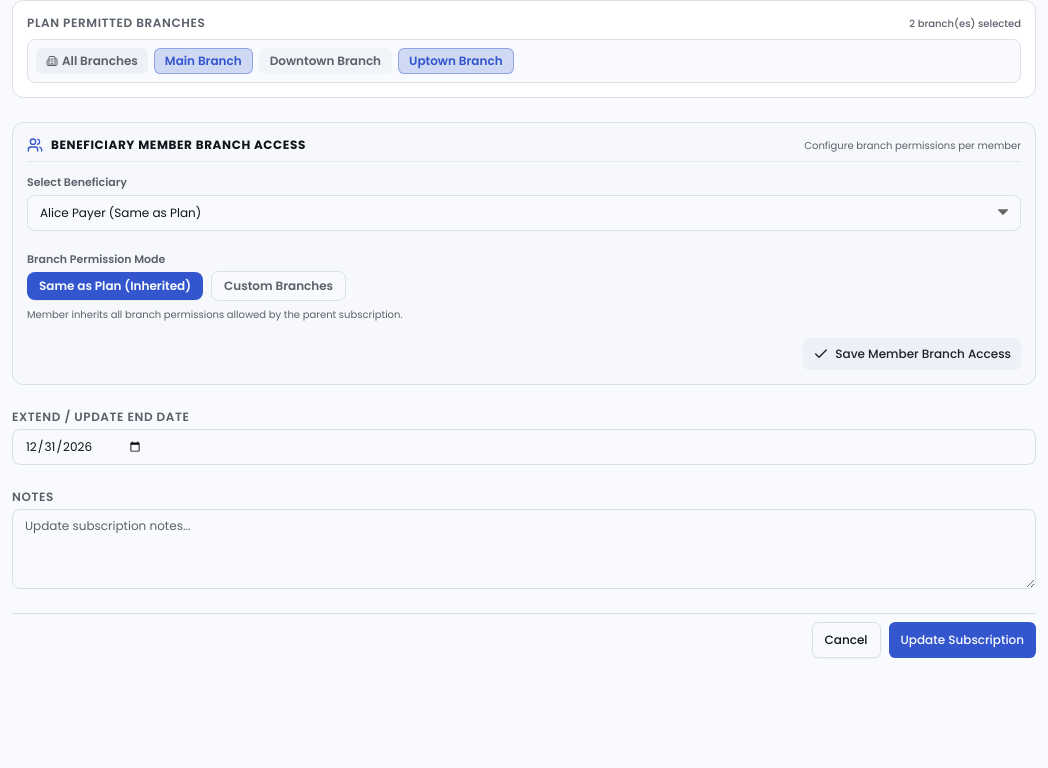
EditSubscriptionDialog & updateMemberBranchAccess API › loads existing beneficiary branch access correctly (inherited vs custom)
Expected: the button "Same as Plan (Inherited)" is shown, top-left (27, 272), bottom-right (203, 300)
# Select Bob from dropdown
Select "Bob Beneficiary (1 custom branch(es))" in the dropdown at {"x": 524, "y": 212}, box top-left (27, 194), bottom-right (1021, 230)
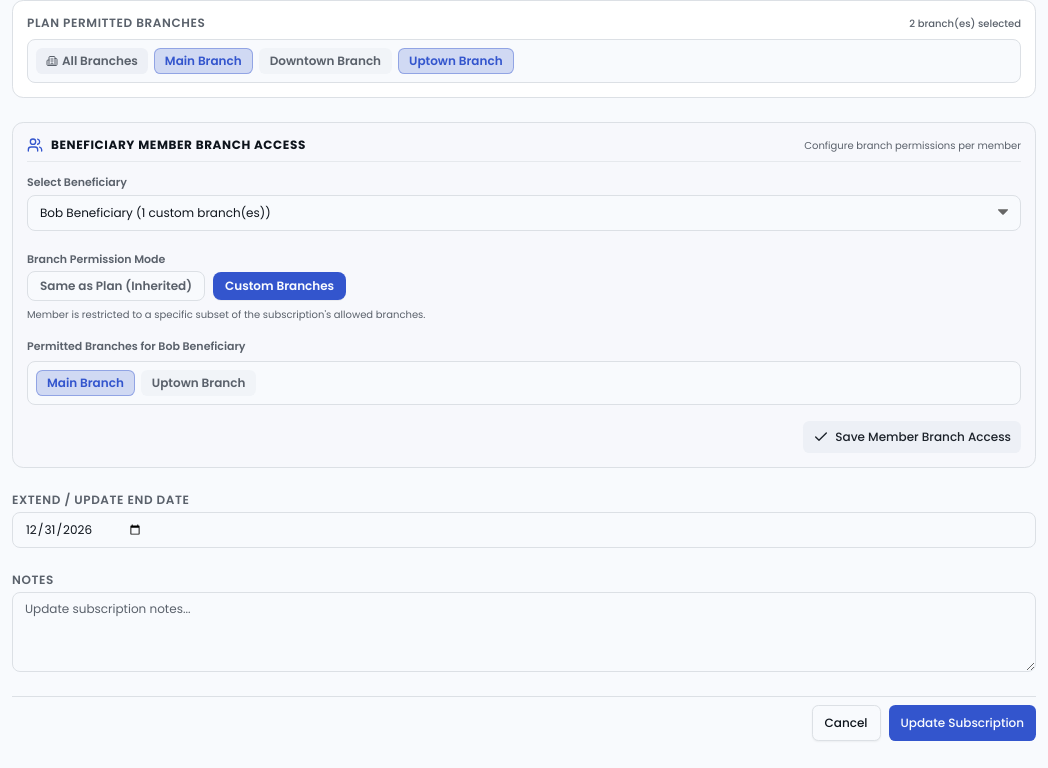
Result: the text "Permitted Branches for Bob Beneficiary" is shown at top-left (27, 338), bottom-right (246, 354)
